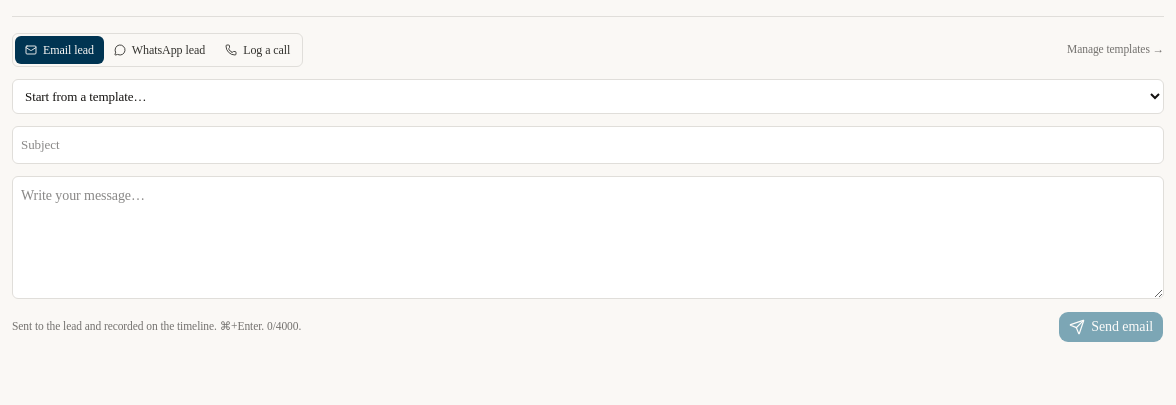
Test case: EnquiryComposer › fills subject and body from a template, tokens resolved
Select "First response" in the dropdown at (588, 96), box x1=12 y1=79 x2=1164 y2=114
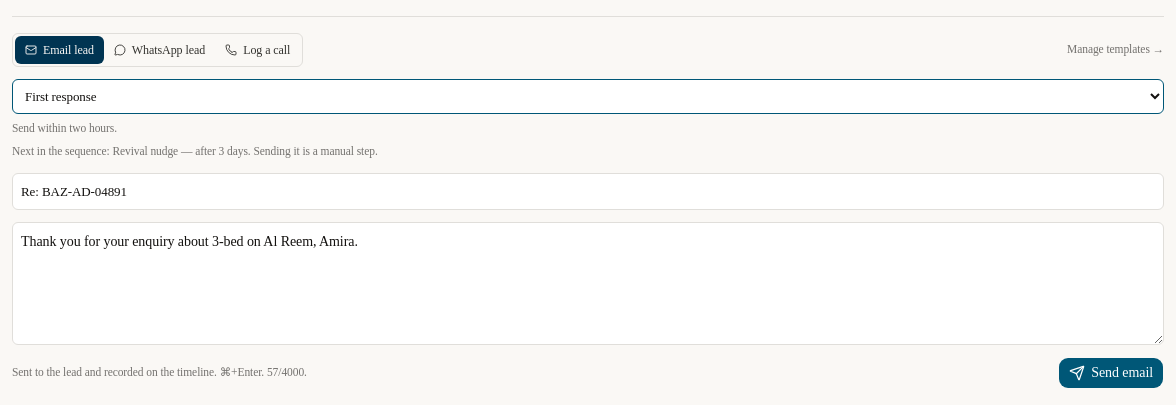
Result: the text box named "email lead" holds "Thank you for your enquiry about 3-bed on Al Reem, Amira." at x1=12 y1=222 x2=1164 y2=345
Result: the field with placeholder "Subject" holds "Re: BAZ-AD-04891" at x1=12 y1=172 x2=1164 y2=210
